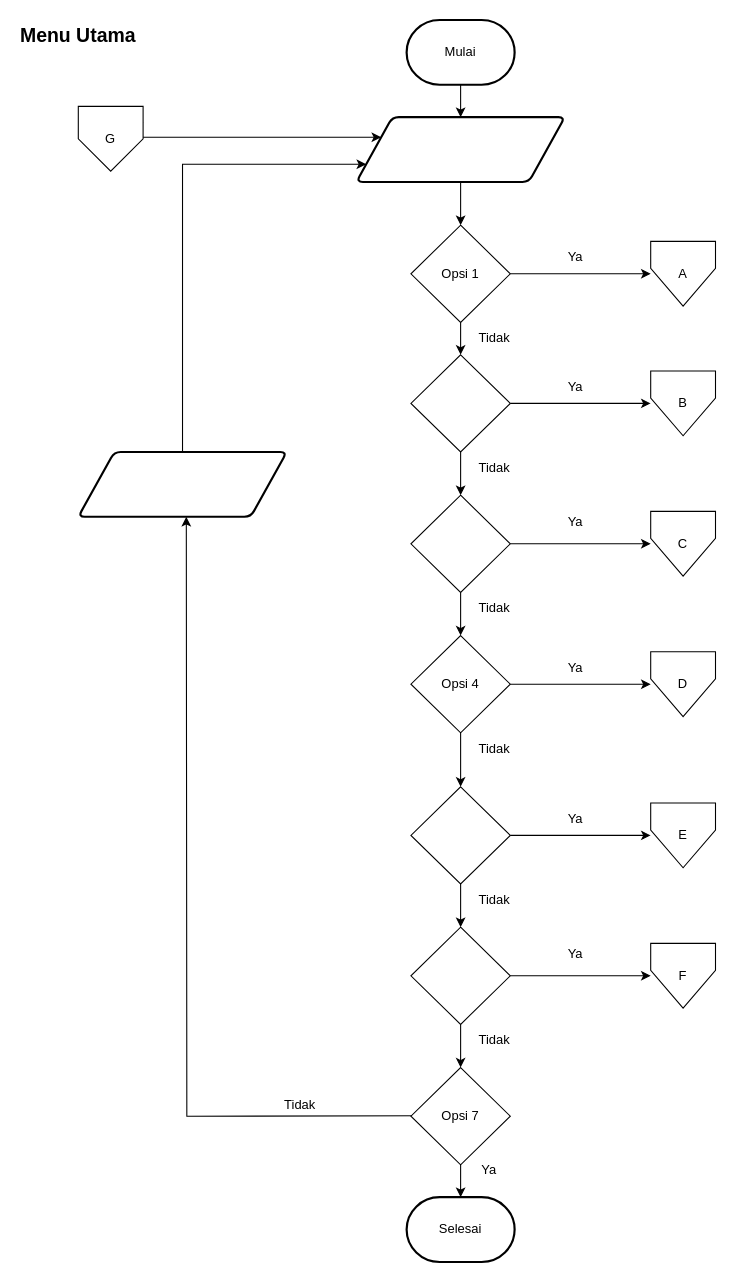
Image size: 734x1281. Some labels were removed from this diagram. The shapes that lost their labels are listed below. From the top down, each one's centre as x and y in pixels, then its label:
At (460,149): "Menu program selamat datang".
At (460,403): "Opsi 2".
At (182,483): "Input yang dimasukkan salah".
At (460,543): "Opsi 3".
At (460,835): "Opsi 5".
At (460,975): "Opsi 6".
